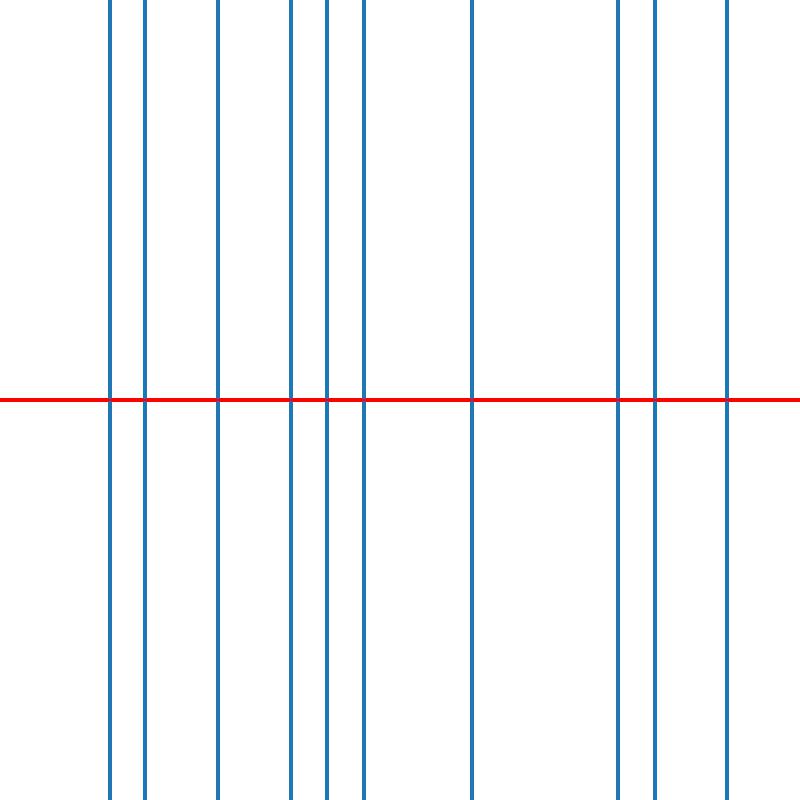root: (650, 396, 658, 404), (141, 396, 149, 404), (214, 396, 221, 404), (105, 396, 112, 404), (614, 396, 621, 404), (287, 396, 294, 404), (469, 396, 476, 404), (723, 396, 730, 404), (323, 396, 330, 404), (360, 396, 367, 404)
